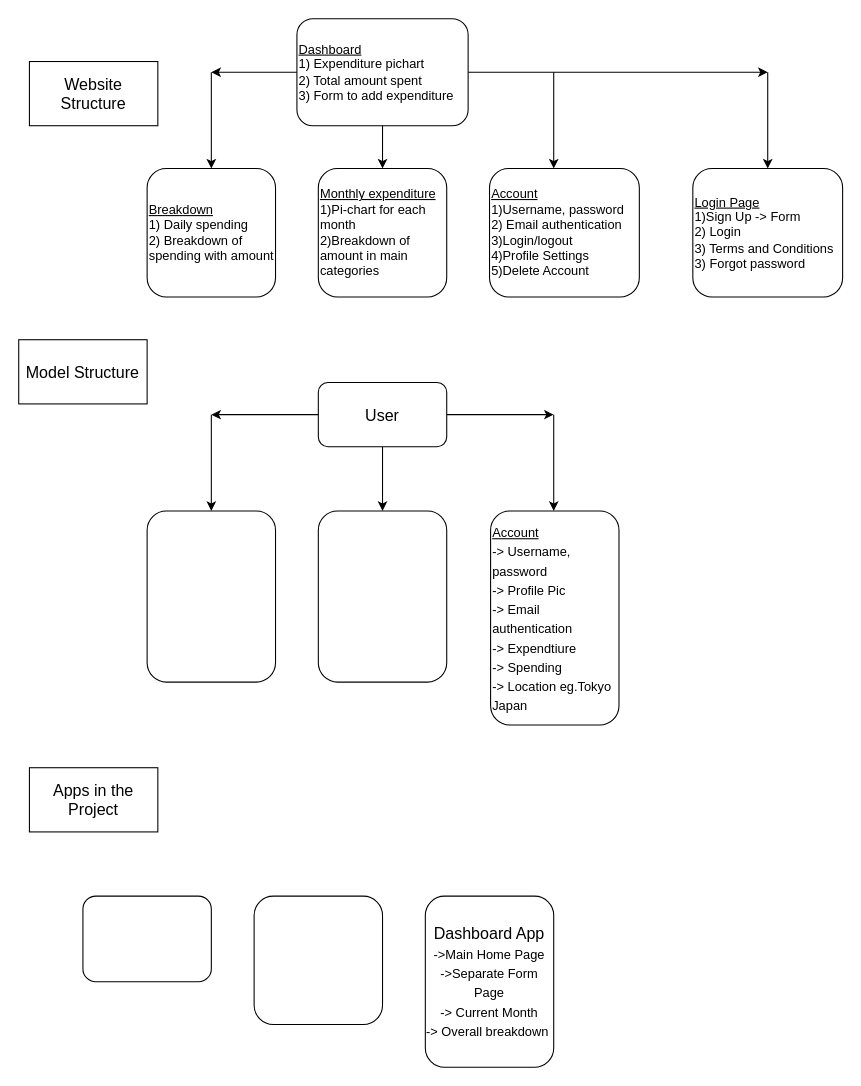
The diagram is 861 pixels wide and 1086 high, and some of its shapes have lost their labels. Here are the shapes that lost their labels. From the top down, the centre of each, then its label:
the point at 211,596: Expenditure -> Spending -> Account -> User
the point at 382,596: Spending -> Date -> Amount -> Note -> Type -> Account
the point at 146,938: Accounts -> View Account ->Change profile
the point at 318,960: Settings -> Delete Account -> Dark/Light Mode ->Terms and conditions
